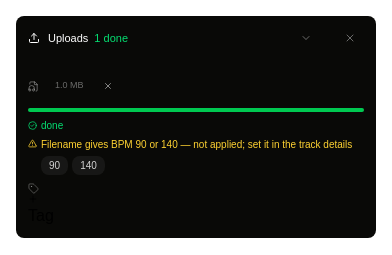
Scenario: UploadsTray › one click sets the value on the track and confirms it
Click the button named "Set BPM to 140" at {"x": 88, "y": 166}, box [72,156,105,175]
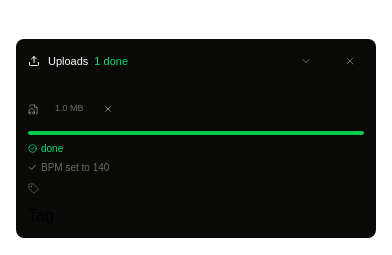
Result: the text "BPM set to 140" is shown at [41,160,109,175]
